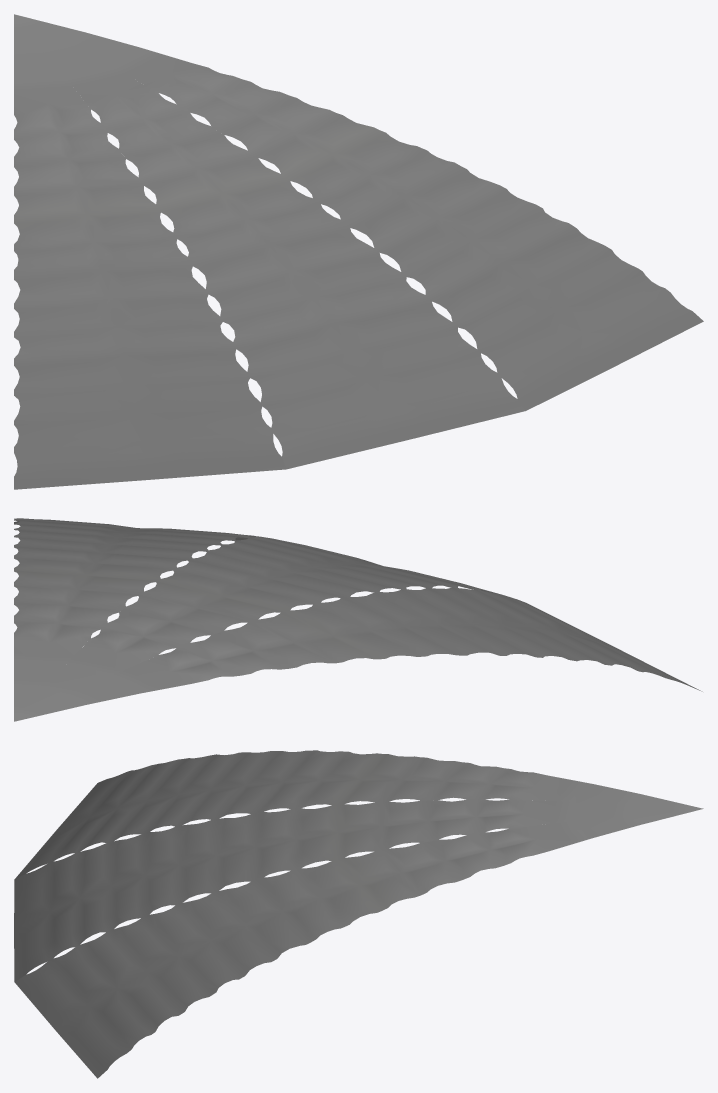
Rendered from MCM_Frame_001.fbx.
3 renders of one model, top to bottom at view 1: azimuth 30°, elevation 25°; view 2: azimuth 150°, elevation 25°; view 3: azimuth 270°, elevation 25°, orthographic. The views are drawn at different scales.
Visible parts, largest first — view 1: MCM_Frame_001; view 2: MCM_Frame_001; view 3: MCM_Frame_001.
Part boxes in pixels (x1,y1,x2,y2): MCM_Frame_001: (14,14,703,489); MCM_Frame_001: (14,518,702,721); MCM_Frame_001: (14,750,703,1078).
Bounding box in the file's own units: 37.89 × 37.34 × 7.29.
Materials: 1 (1 with a texture image).
